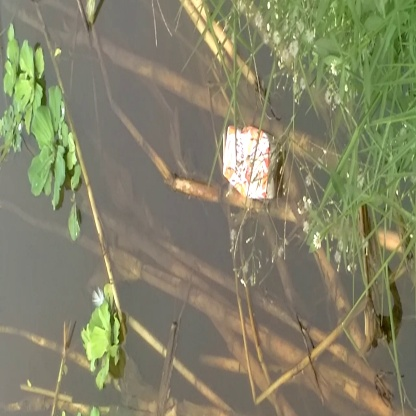milk-box: (215, 122, 288, 204)
